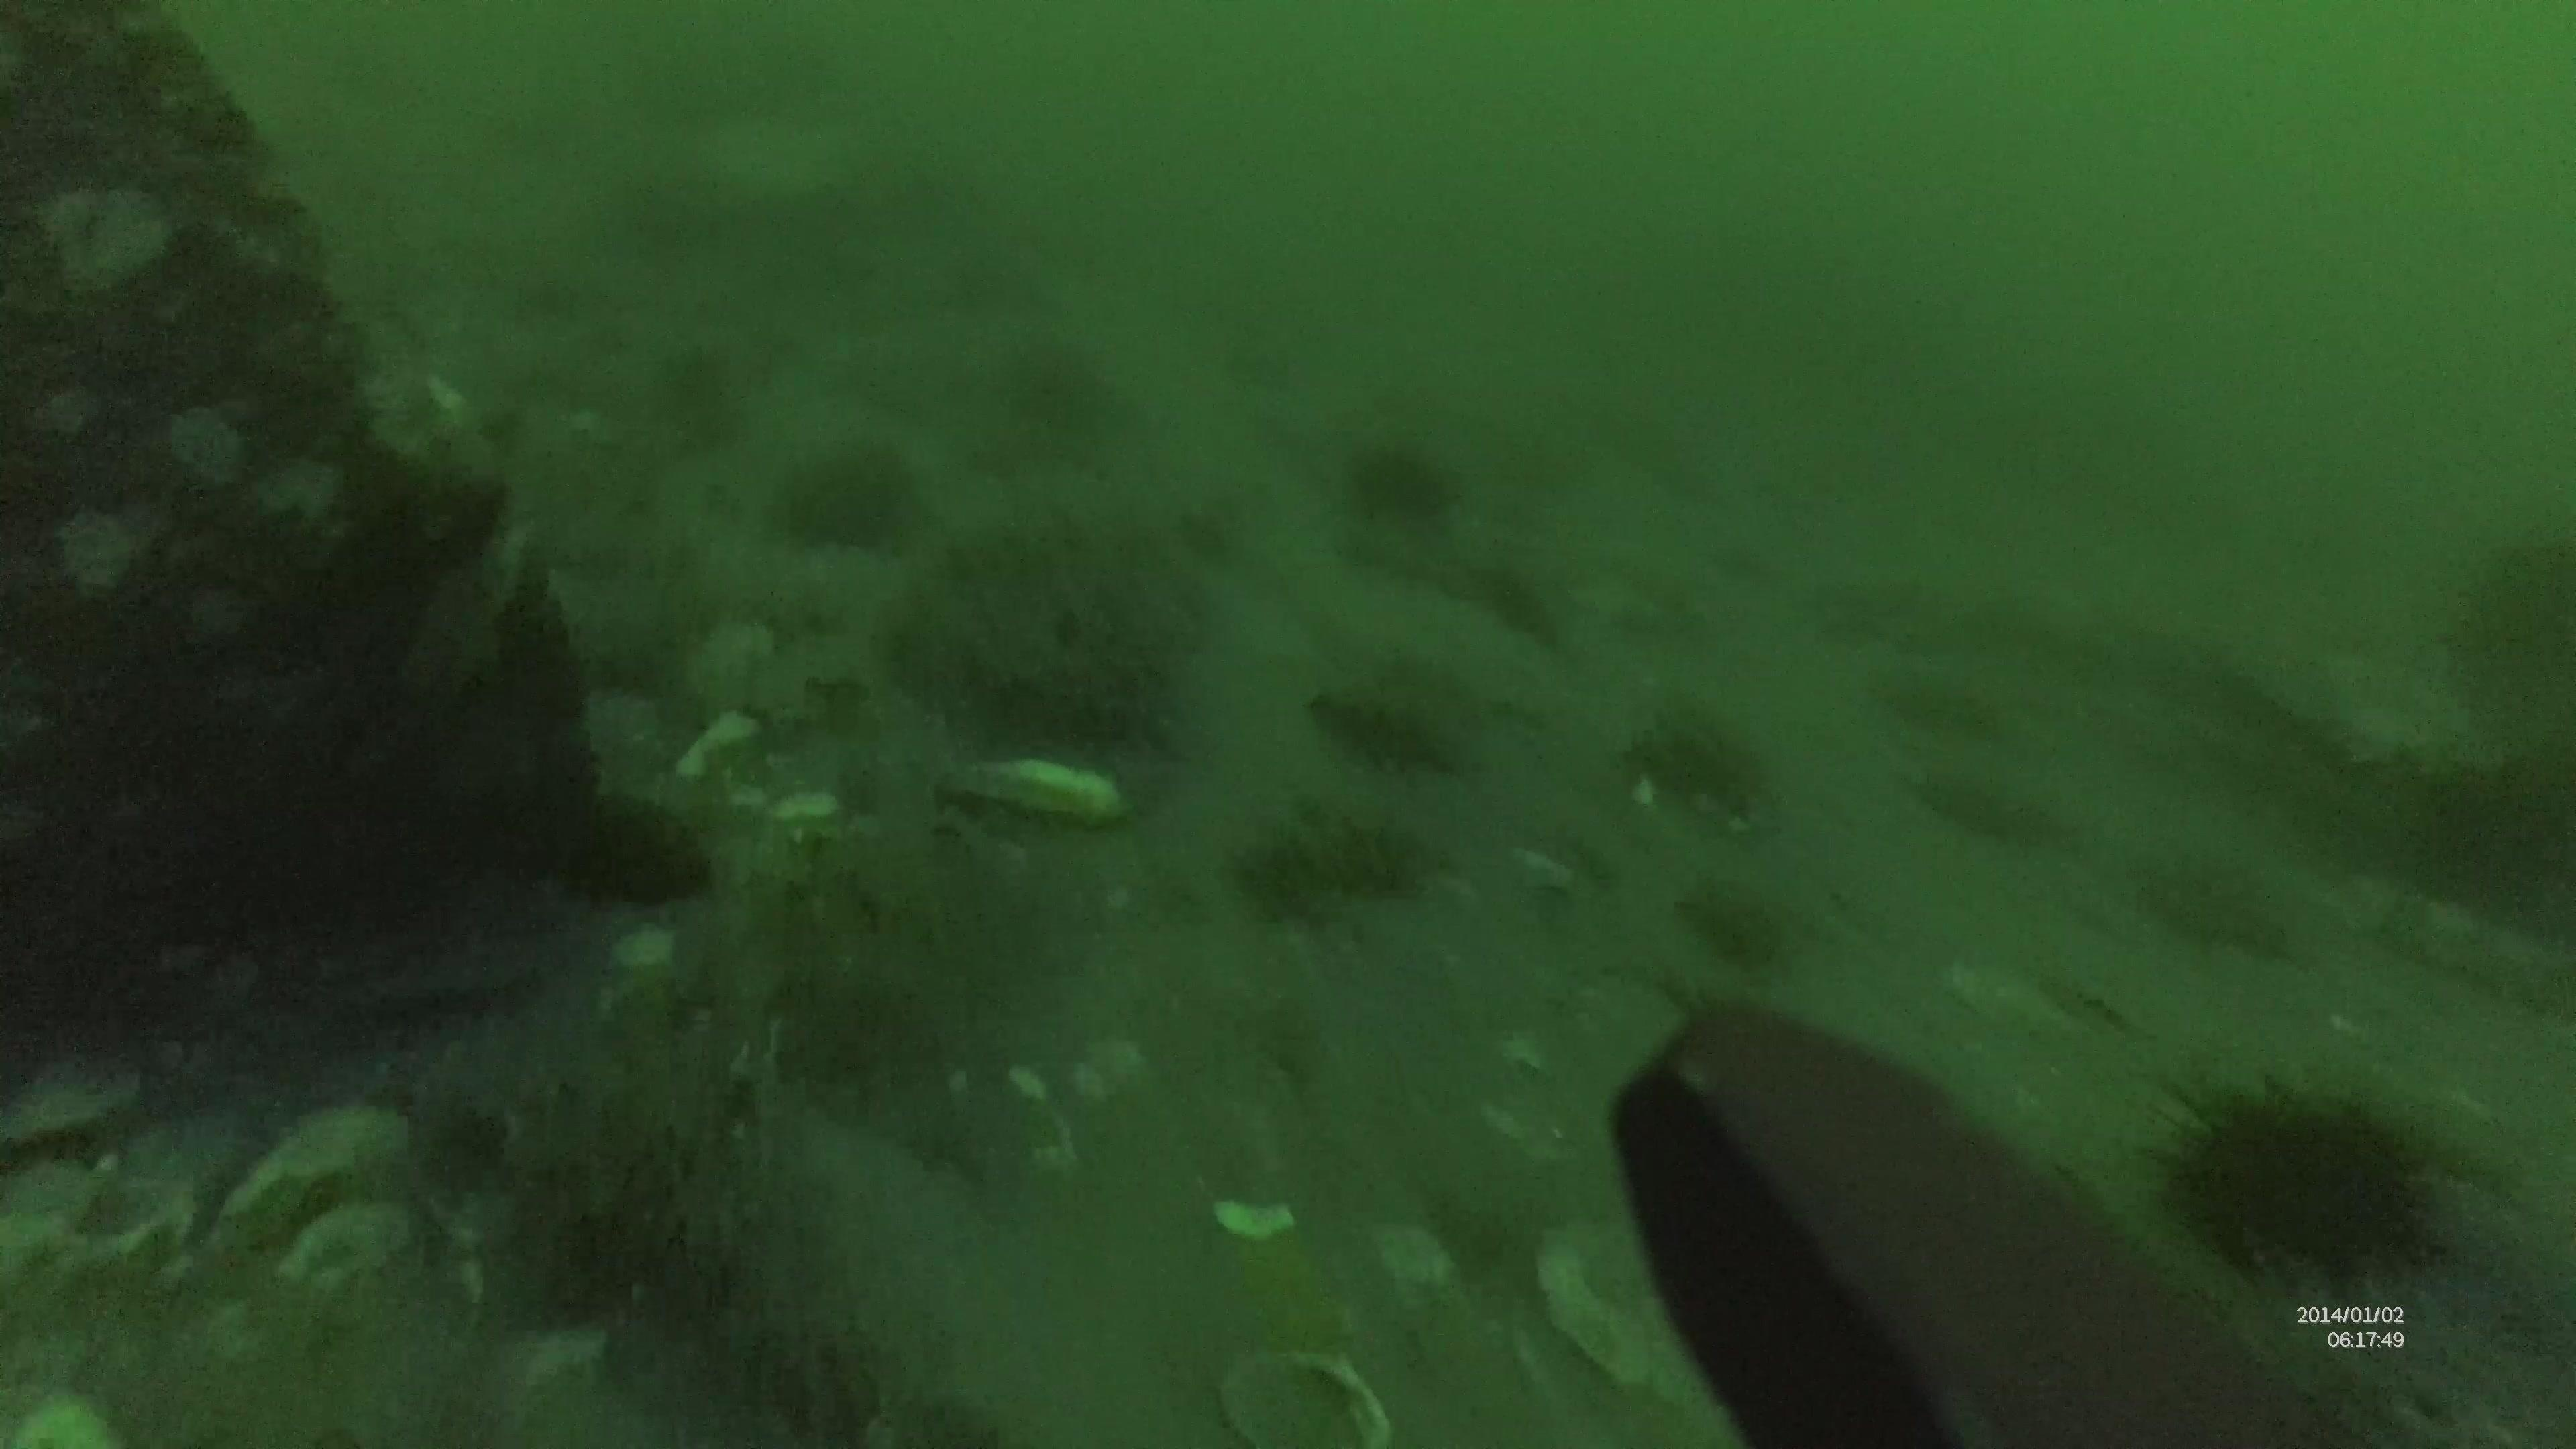echinus: (2148, 1069, 2450, 1295), (771, 437, 922, 561), (1341, 433, 1461, 533)
